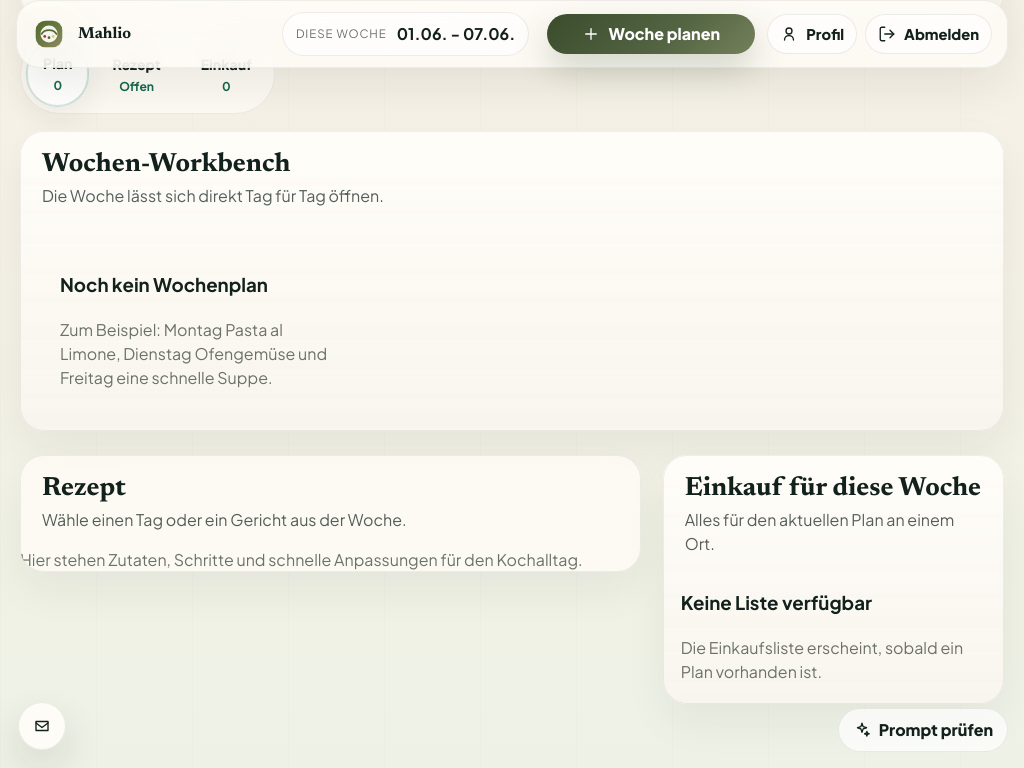
Test case: Mealplanner app › shows the prompt debug overlay in the test environment
(page scrolled)
Click the button "Prompt prüfen".
click(923, 730)  # box left=838, top=708, right=1008, bottom=752
(page scrolled)
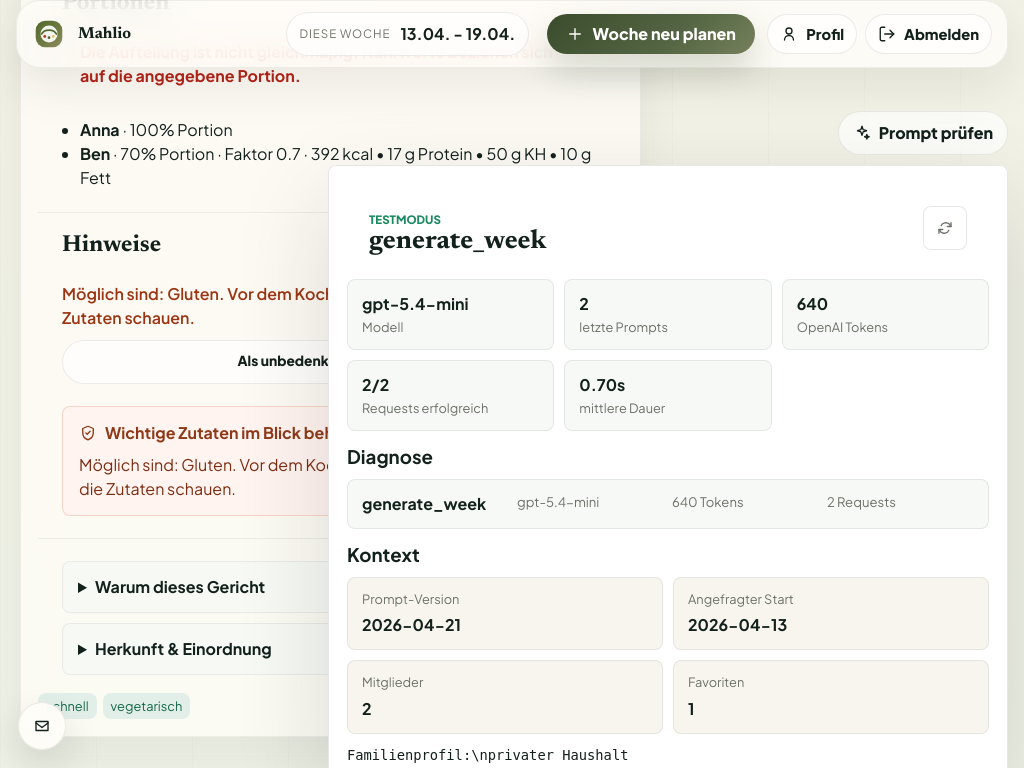
Now the heading "generate_week" is shown, box left=369, top=230, right=546, bottom=255
Now the text "Familienprofil:\\nprivater Haushalt" is shown, box left=347, top=747, right=628, bottom=763
Now the text "OpenAI Tokens" is shown, box left=797, top=319, right=888, bottom=335
